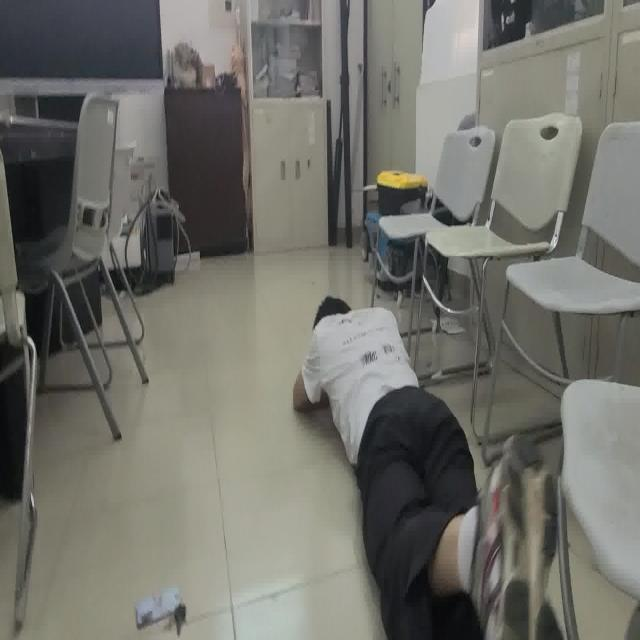fall: (290, 296, 562, 640)
